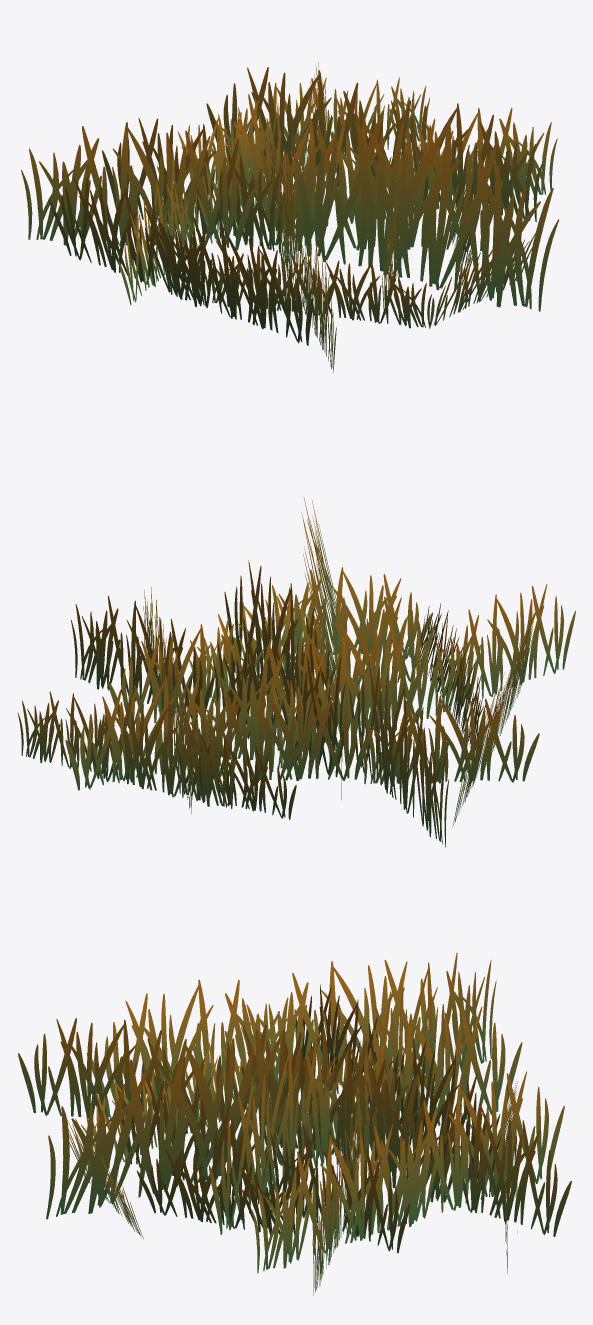
The model's file is high_grass_02.gltf.
The picture shows the model from 3 angles, top to bottom: view 1: azimuth 30°, elevation 25°; view 2: azimuth 150°, elevation 25°; view 3: azimuth 270°, elevation 25°; orthographic projection. The views are drawn at different scales.
Visible parts, largest first — view 1: default; view 2: default; view 3: default.
Boxes of the visible parts, bbox=[...] form: default: bbox=[21, 62, 559, 372]; default: bbox=[17, 496, 575, 847]; default: bbox=[18, 953, 571, 1295].
Size of the model in its own units: 1.91 by 0.7728 by 1.84.
Materials: 1 (1 with a texture image).
